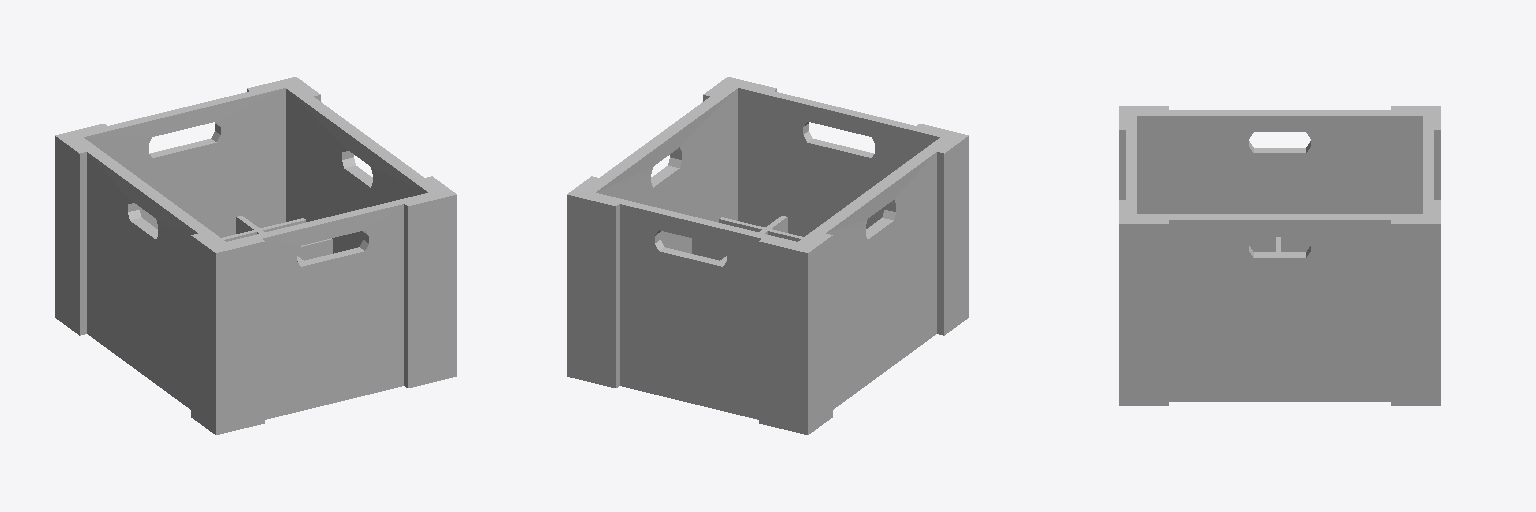
File: Beer_Crate.obj
3 views of the same model, side by side, from view 1: azimuth 30°, elevation 25°; view 2: azimuth 150°, elevation 25°; view 3: azimuth 270°, elevation 25° (orthographic).
Bounding box in the file's own units: 1.08 × 0.7785 × 1.25.